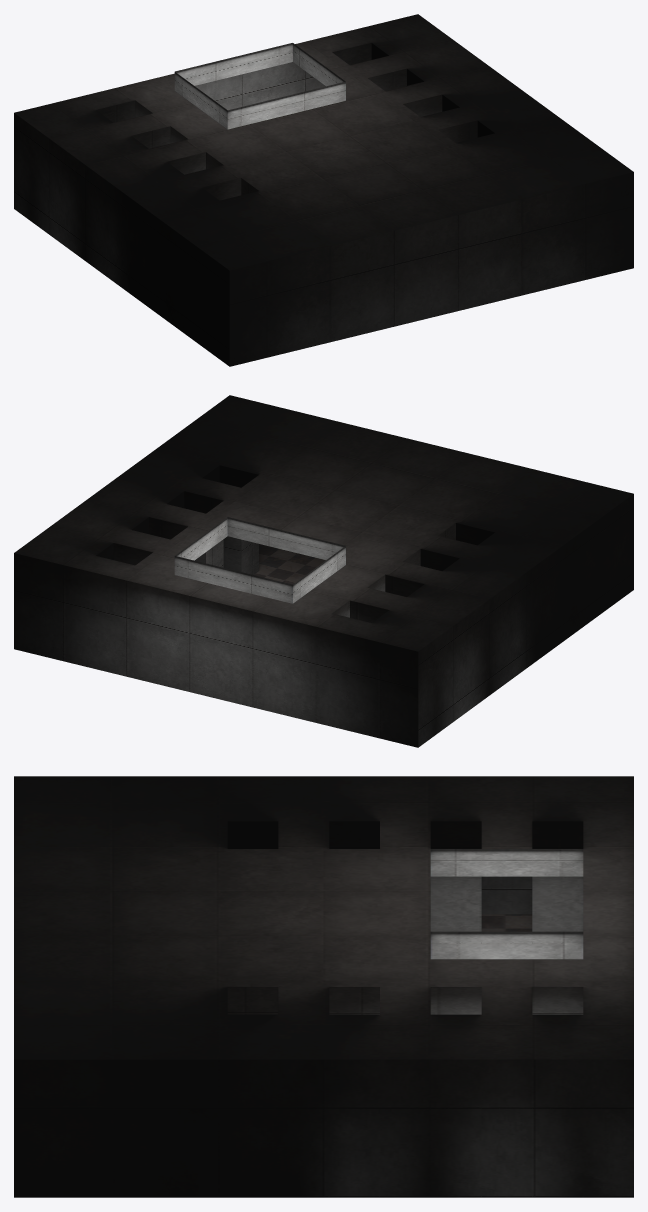
The model's file is vr_room.obj.
3 renders of one model, top to bottom at view 1: azimuth 30°, elevation 25°; view 2: azimuth 150°, elevation 25°; view 3: azimuth 270°, elevation 25°, orthographic. The views are drawn at different scales.
Visible parts, largest first — view 1: Object_4; view 2: Object_4, Object_5; view 3: Object_4, Object_5.
Boxes of the visible parts, left/top/right/bottom form: Object_4: left=14, top=14, right=633, bottom=366; Object_4: left=14, top=395, right=633, bottom=747; Object_5: left=254, top=544, right=325, bottom=584; Object_4: left=14, top=776, right=633, bottom=1197; Object_5: left=481, top=914, right=532, bottom=931.
Bounding box in the file's own units: 40.83 × 11.13 × 37.75.
2 materials, 2 textured.
